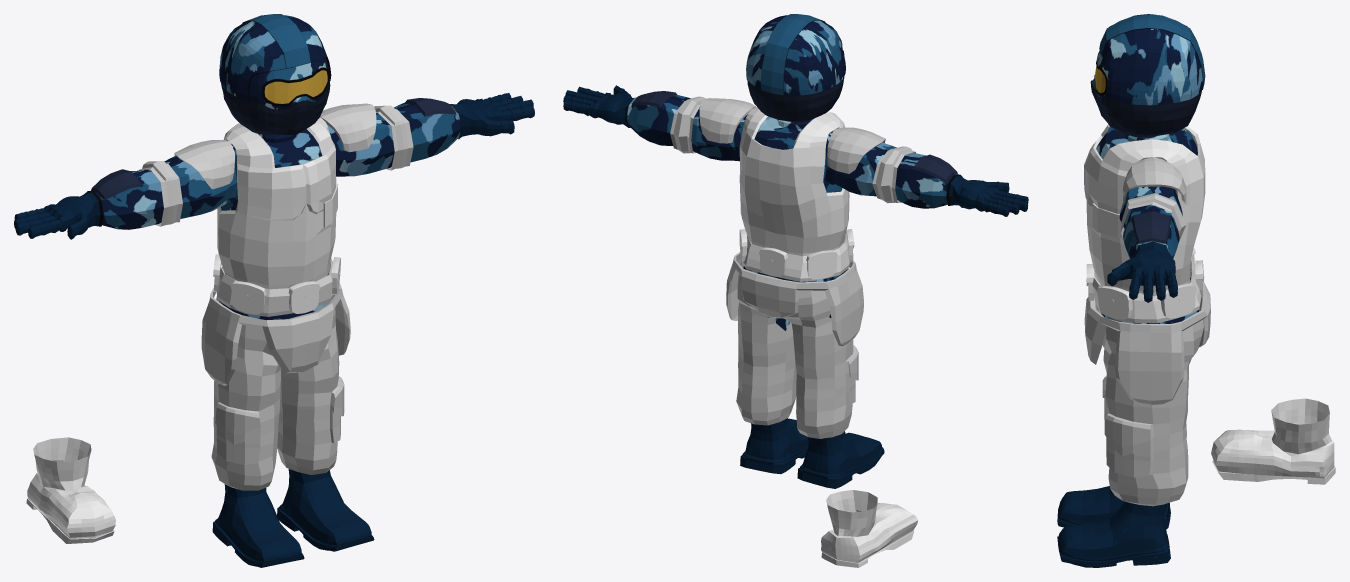
3 views of the same model, side by side, from view 1: azimuth 30°, elevation 25°; view 2: azimuth 150°, elevation 25°; view 3: azimuth 270°, elevation 25° (orthographic). The views are drawn at different scales.
Visible parts, largest first — view 1: body, pantalon, chaleco, entrepierna, bota_original, cinturon, hombrera, codera; view 2: body, pantalon, chaleco, entrepierna, bota_original, hombrera, cinturon, codera; view 3: body, pantalon, chaleco, bota_original, entrepierna, cinturon, hombrera, codera.
Boxes of the visible parts, box(x1,y1,x2,y2) form: body: box(14, 14, 534, 567); pantalon: box(211, 295, 344, 490); chaleco: box(217, 117, 338, 289); entrepierna: box(201, 283, 350, 385); bota_original: box(26, 437, 115, 543); cinturon: box(213, 254, 340, 316); hombrera: box(174, 103, 376, 189); codera: box(139, 105, 413, 226); body: box(563, 14, 1028, 488); pantalon: box(736, 262, 858, 438); chaleco: box(739, 107, 849, 256); entrepierna: box(726, 252, 863, 346); bota_original: box(821, 490, 918, 567); hombrera: box(699, 98, 885, 173); cinturon: box(739, 229, 854, 281); codera: box(670, 96, 915, 203); body: box(1057, 14, 1205, 567); pantalon: box(1097, 297, 1204, 506); chaleco: box(1084, 124, 1205, 296); bota_original: box(1211, 398, 1335, 484); entrepierna: box(1084, 277, 1210, 405); cinturon: box(1086, 248, 1204, 323); hombrera: box(1122, 157, 1186, 203); codera: box(1121, 193, 1185, 242).
Bounding box in the file's own units: 180 × 171 × 82.2.
